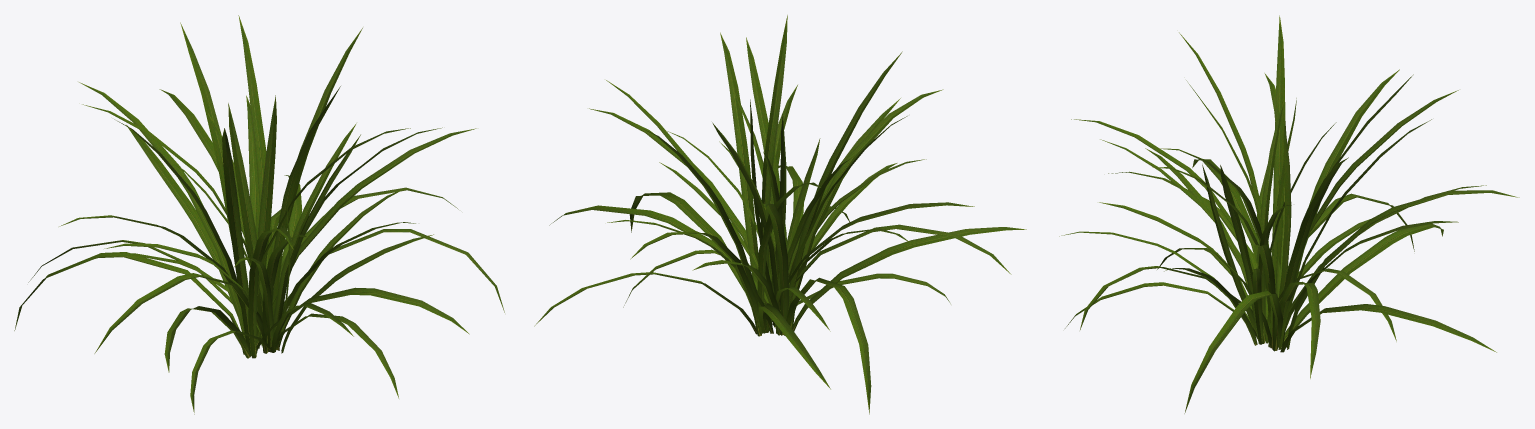
The model's file is Grass.FBX.
The picture shows the model from 3 angles, left to right: view 1: azimuth 30°, elevation 25°; view 2: azimuth 150°, elevation 25°; view 3: azimuth 270°, elevation 25°; orthographic projection. The views are drawn at different scales.
Parts seen in each view (by area): view 1: grass_01; view 2: grass_01; view 3: grass_01.
Boxes of the visible parts, x1,y1,x2,y2 form: grass_01: [14, 15, 504, 414]; grass_01: [534, 15, 1026, 414]; grass_01: [1059, 15, 1519, 413].
Size of the model in its own units: 11.62 by 7.62 by 11.22.
